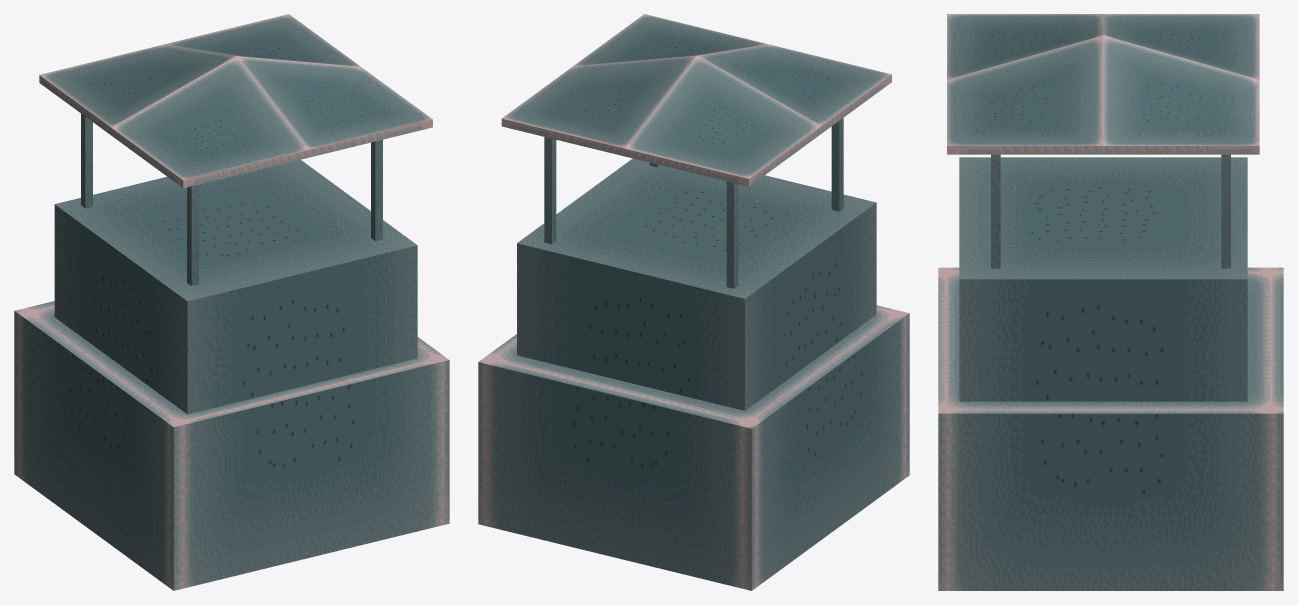
The model's file is yk_katto_lvi_tuuletusaukko5.fbx.
The picture shows the model from 3 angles, left to right: view 1: azimuth 30°, elevation 25°; view 2: azimuth 150°, elevation 25°; view 3: azimuth 270°, elevation 25°; orthographic projection. The views are drawn at different scales.
Visible parts, largest first — view 1: Plane.005; view 2: Plane.005; view 3: Plane.005.
Boxes of the visible parts, x1=… form: Plane.005: x1=14, y1=14, x2=449, y2=590; Plane.005: x1=478, y1=14, x2=909, y2=590; Plane.005: x1=938, y1=14, x2=1283, y2=590.
Bounding box in the file's own units: 118 × 183 × 118.
